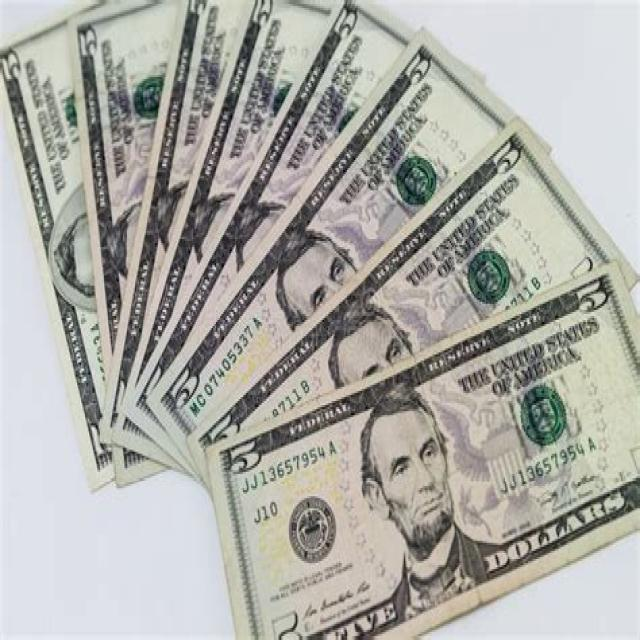Five: (152, 28, 557, 490), (191, 115, 638, 495), (231, 257, 639, 640), (125, 2, 421, 440), (120, 0, 336, 442), (101, 0, 259, 446), (0, 2, 120, 493), (67, 0, 194, 448)
